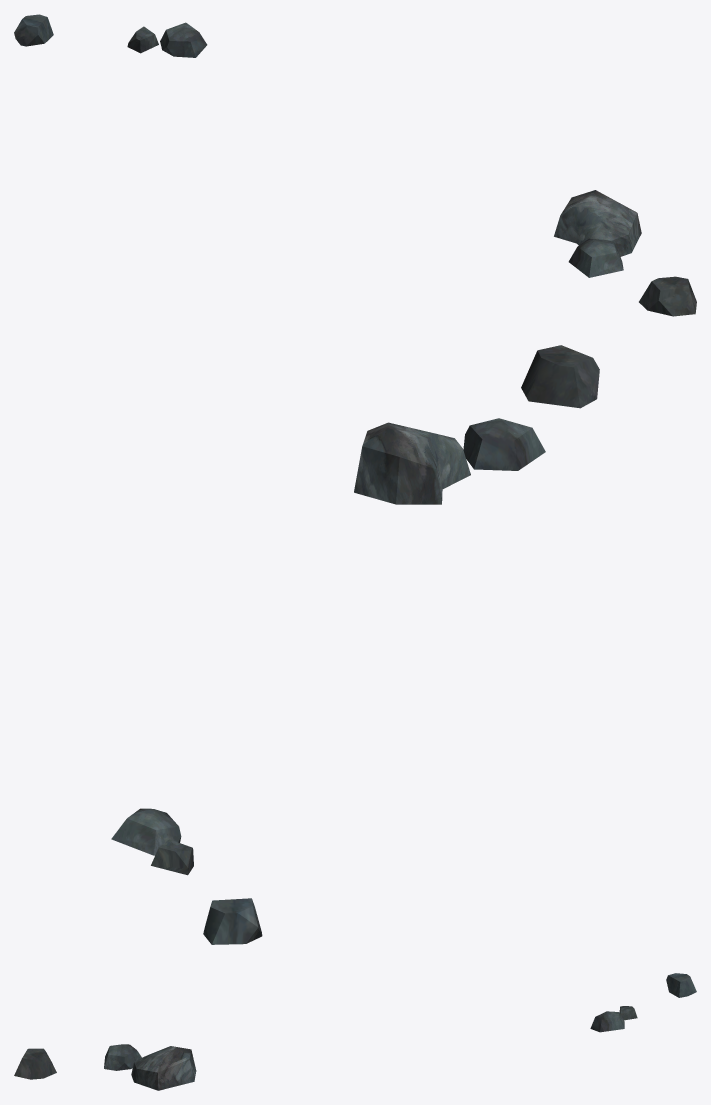
The model's file is object_rubble35.fbx.
3 renders of one model, top to bottom at view 1: azimuth 30°, elevation 25°; view 2: azimuth 150°, elevation 25°; view 3: azimuth 270°, elevation 25°, orthographic. The views are drawn at different scales.
Visible parts, largest first — view 1: Material_#238683587/cliffside; view 2: Material_#238683587/cliffside; view 3: Material_#238683587/cliffside.
Boxes of the visible parts, box(x1,y1,x2,y2) form: Material_#238683587/cliffside: box(14, 14, 696, 316); Material_#238683587/cliffside: box(111, 345, 599, 944); Material_#238683587/cliffside: box(14, 973, 696, 1090).
Bounding box in the file's own units: 3.13 × 0.4568 × 8.77.
